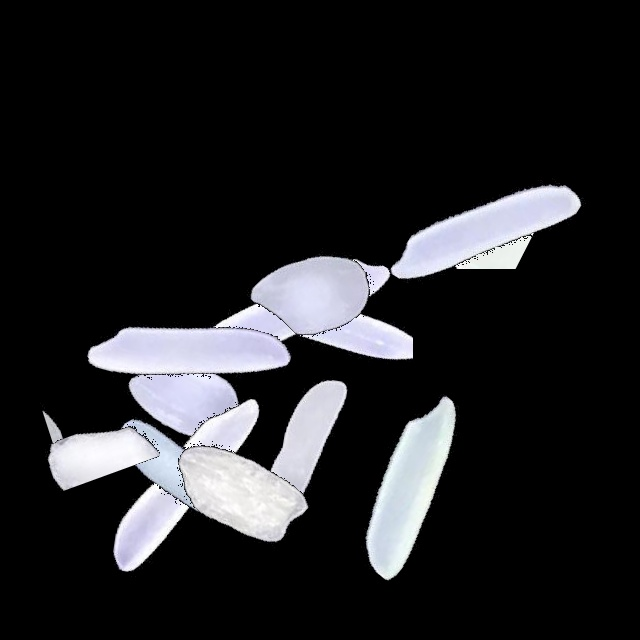Broken: (272, 244, 413, 494), (25, 283, 160, 533), (353, 147, 603, 269), (323, 492, 573, 579), (37, 262, 123, 512)
Full: (62, 271, 312, 521), (289, 360, 539, 610), (61, 361, 311, 611), (55, 342, 305, 592), (170, 186, 420, 436), (188, 167, 438, 417), (182, 321, 432, 571), (112, 363, 362, 613), (64, 226, 314, 476), (361, 108, 611, 358)
